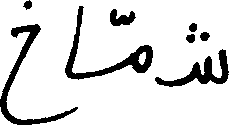ا: (63, 3, 83, 81)
خ: (0, 0, 39, 124)
ش: (153, 20, 226, 87)
م: (131, 40, 153, 73)
